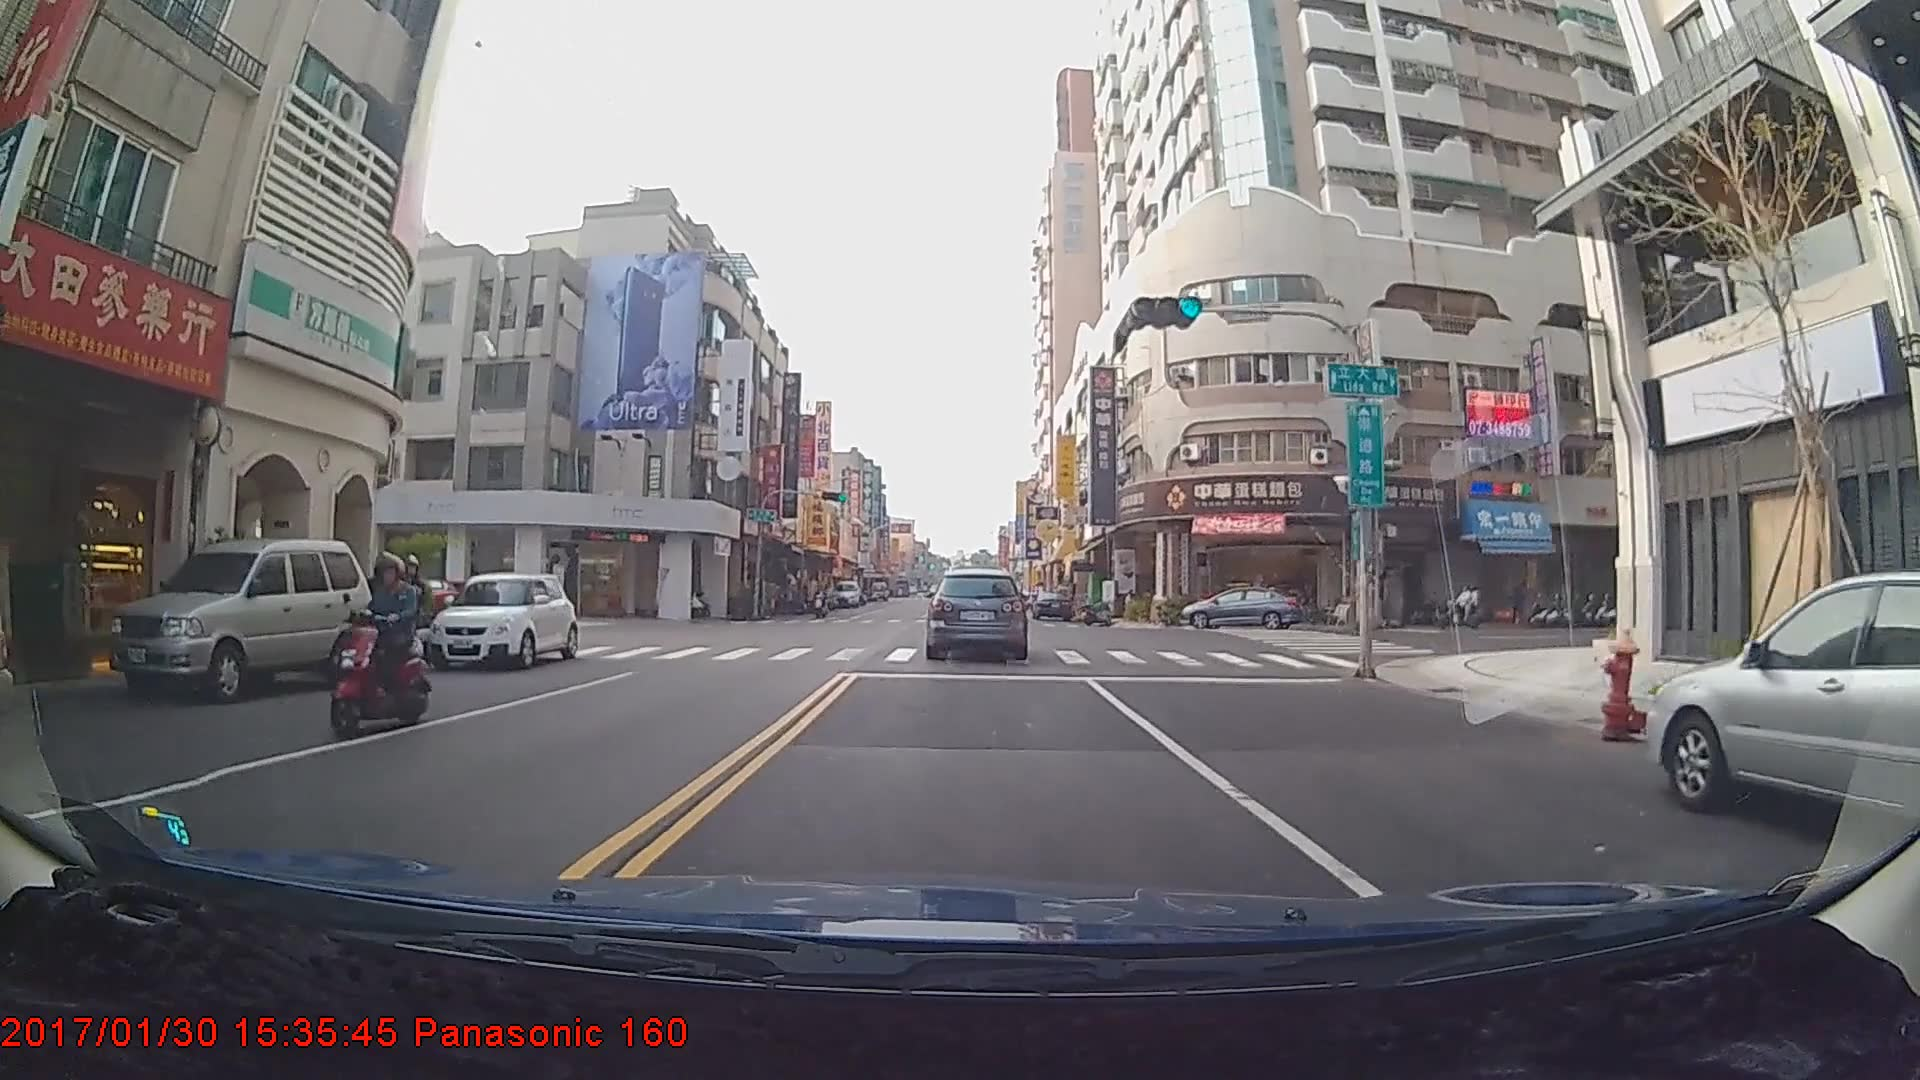rider: (327, 557, 437, 741), (1429, 582, 1479, 632), (806, 589, 835, 627)
vehicle: (1640, 567, 1919, 892), (108, 535, 377, 702), (429, 573, 579, 671), (925, 569, 1028, 661), (1181, 582, 1304, 632), (1033, 589, 1073, 621), (833, 580, 860, 609)
